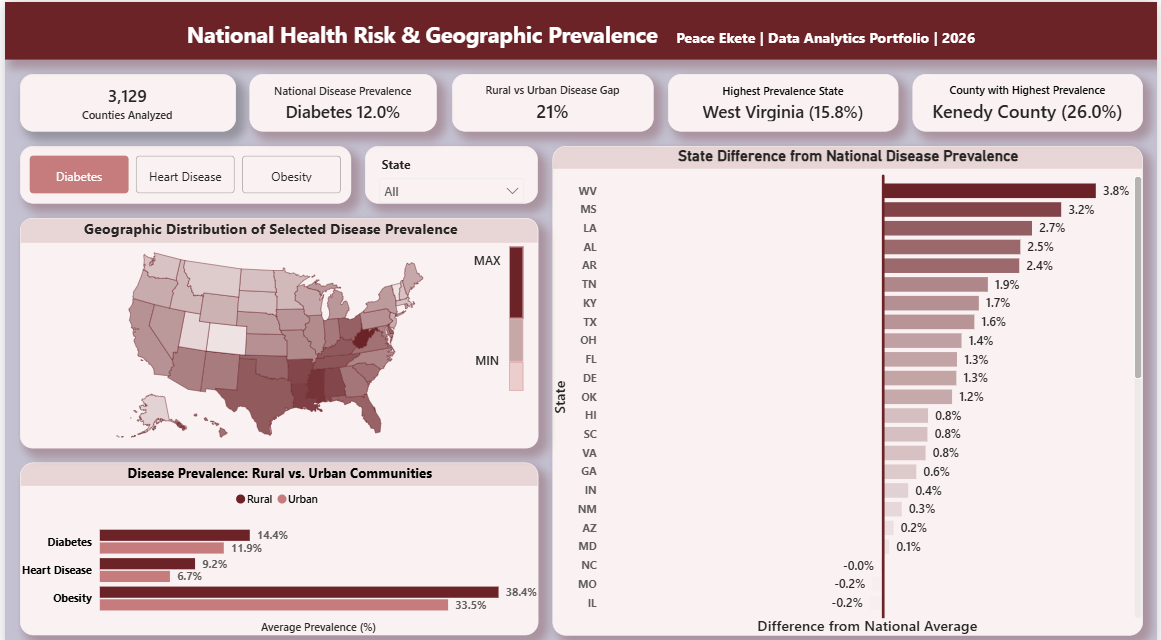

The page's visual inventory and layout, read from the dashboard file:
{"tool":"powerbi","page":{"name":" Page 1 — National Health Risk & Geographic Prevalence","canvas":[1280,720],"ordinal":0},"visuals":[{"type":"advancedSlicerVisual","fields":{"Values":["Slicer_Table.Outcome_Name"]},"box":[16,192,384,64],"z":0},{"type":"clusteredBarChart","title":"Health Risk Disparity → Urban vs. Rural Communities","fields":{"Category":["Urban_Rural_Comparison.Metric"],"Y":["master_county_final.Chart_UrbanRural_Comparison"],"Series":["Urban_Rural_Comparison.Urban_Rural"]},"box":[608,464,656,240],"z":1000},{"type":"clusteredBarChart","title":"State Deviation from National Average","fields":{"Category":["master_county_final.State"],"Y":["master_county_final.State Deviation"]},"box":[608,192,656,256],"z":2000},{"type":"slicer","fields":{"Values":["State_Lookup.State_Full"]},"box":[416,192,176,64],"z":3000},{"type":"shapeMap","title":"Geographic Distribution of Selected Chronic Disease","fields":{"Value":["Outcome Selector.Selected_Outcome_Value4"],"Category":["State_Lookup.State_Full"]},"box":[16,272,576,400],"z":4000},{"type":"cardVisual","fields":{"Data":["master_county_final.Counties Analyzed"]},"box":[16,96,224,80],"z":5000},{"type":"textbox","box":[0,0,1280,80],"z":6000},{"type":"cardVisual","fields":{"Data":["master_county_final.Rural_Disparity_Pct"]},"box":[512,96,240,80],"z":7000},{"type":"cardVisual","fields":{"Data":["Outcome Selector.Health Outcome"]},"box":[256,96,240,80],"z":8000},{"type":"cardVisual","fields":{"Data":["master_county_final.Highest Prevalence State"]},"box":[768,96,240,80],"z":9000},{"type":"cardVisual","fields":{"Data":["master_county_final.Most_Vulnerable_County"]},"box":[1024,96,240,80],"z":10000},{"type":"shape","box":[560,368,16,128],"z":11000},{"type":"shape","box":[560,464,16,144],"z":12000},{"type":"textbox","box":[544,336,48,48],"z":13000},{"type":"textbox","box":[528,608,64,48],"z":14000}]}

Visuals, with their boxes in screenshot pixels (x1, y1, x2, y2), scaled from the page's 1280x720 canvas onto the 1161x640 screenshot:
advancedSlicerVisual - Slicer_Table.Outcome_Name: 15,171,363,228
"Health Risk Disparity → Urban vs. Rural Communities" clusteredBarChart: 551,412,1146,626
"State Deviation from National Average" clusteredBarChart: 551,171,1146,398
slicer - State_Lookup.State_Full: 377,171,537,228
"Geographic Distribution of Selected Chronic Disease" shapeMap: 15,242,537,597
cardVisual - master_county_final.Counties Analyzed: 15,85,218,156
textbox: 0,0,1160,71
cardVisual - master_county_final.Rural_Disparity_Pct: 464,85,682,156
cardVisual - Outcome Selector.Health Outcome: 232,85,450,156
cardVisual - master_county_final.Highest Prevalence State: 697,85,914,156
cardVisual - master_county_final.Most_Vulnerable_County: 929,85,1146,156
shape: 508,327,522,441
shape: 508,412,522,540
textbox: 493,299,537,341
textbox: 479,540,537,583
